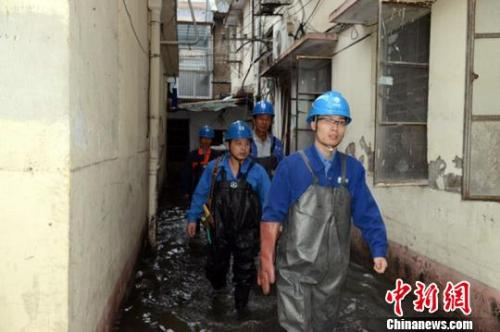hard-hat: (306, 90, 352, 124), (223, 119, 253, 140)
person: (257, 90, 389, 332), (186, 120, 272, 319)
ppe-suit: (259, 143, 389, 330), (185, 152, 272, 310)
